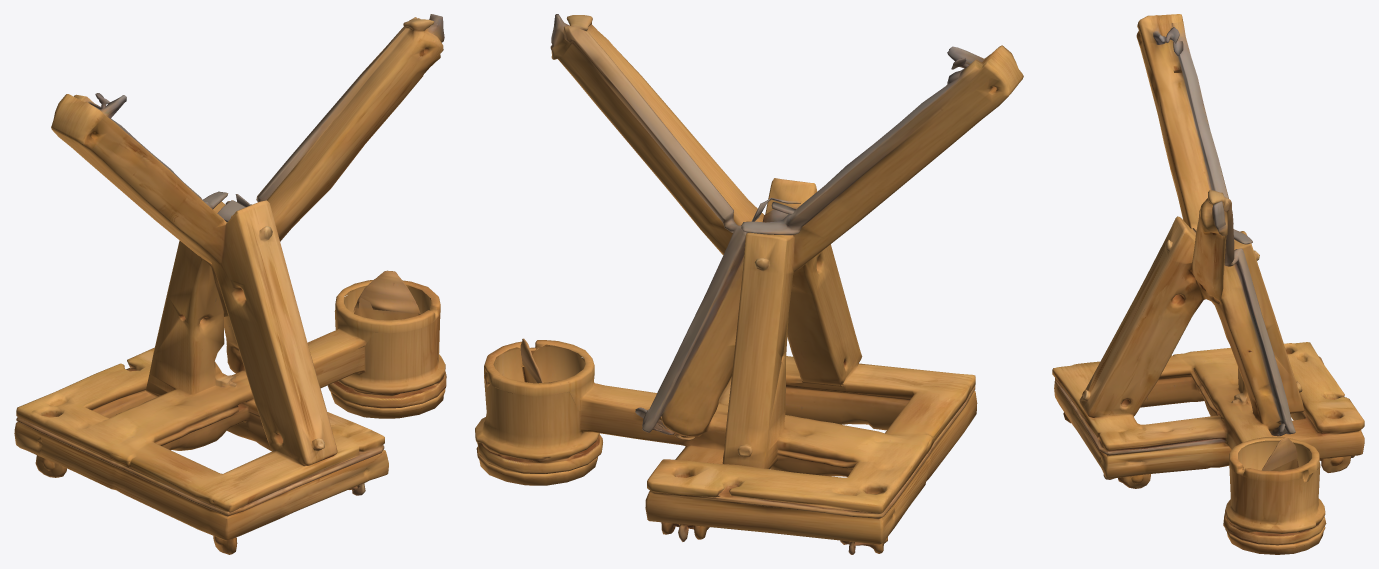
The model's file is catapult-Bh0DwGzX.glb.
3 views of the same model, side by side, from view 1: azimuth 30°, elevation 25°; view 2: azimuth 150°, elevation 25°; view 3: azimuth 270°, elevation 25° (orthographic). The views are drawn at different scales.
Parts seen in each view (by area): view 1: tripo_node_341eb47d-ecf2-44a9-b068-0681ac334f0e; view 2: tripo_node_341eb47d-ecf2-44a9-b068-0681ac334f0e; view 3: tripo_node_341eb47d-ecf2-44a9-b068-0681ac334f0e.
Boxes of the visible parts, x1,y1,x2,y2 form: tripo_node_341eb47d-ecf2-44a9-b068-0681ac334f0e: [14, 14, 446, 554]; tripo_node_341eb47d-ecf2-44a9-b068-0681ac334f0e: [475, 14, 1023, 554]; tripo_node_341eb47d-ecf2-44a9-b068-0681ac334f0e: [1052, 14, 1364, 554].
Bounding box in the file's own units: 1 × 0.9432 × 0.7182.
1 material, 1 textured.
